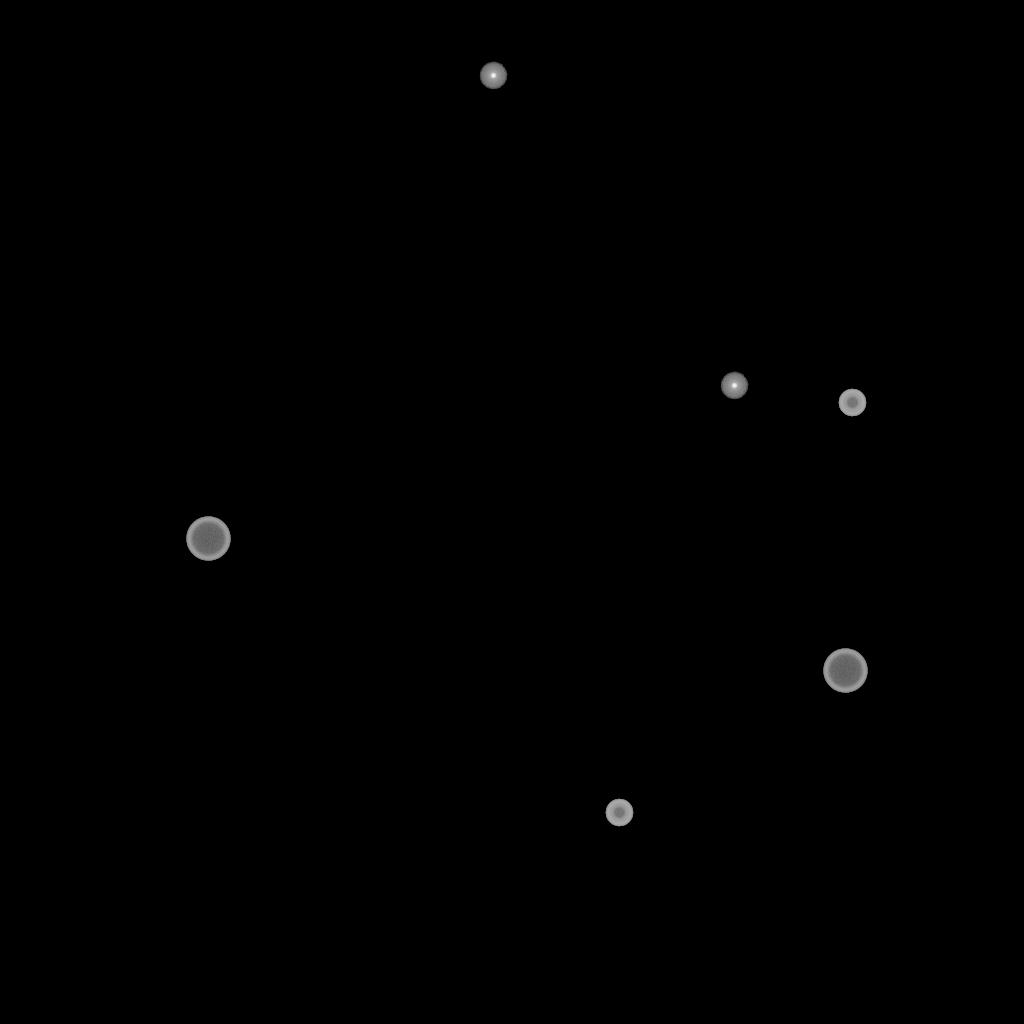depth:-10: (479, 62, 507, 90), (720, 372, 748, 400)
depth:-50: (605, 799, 633, 827), (838, 389, 866, 417)
depth:-70: (186, 517, 230, 561), (823, 649, 867, 693)
